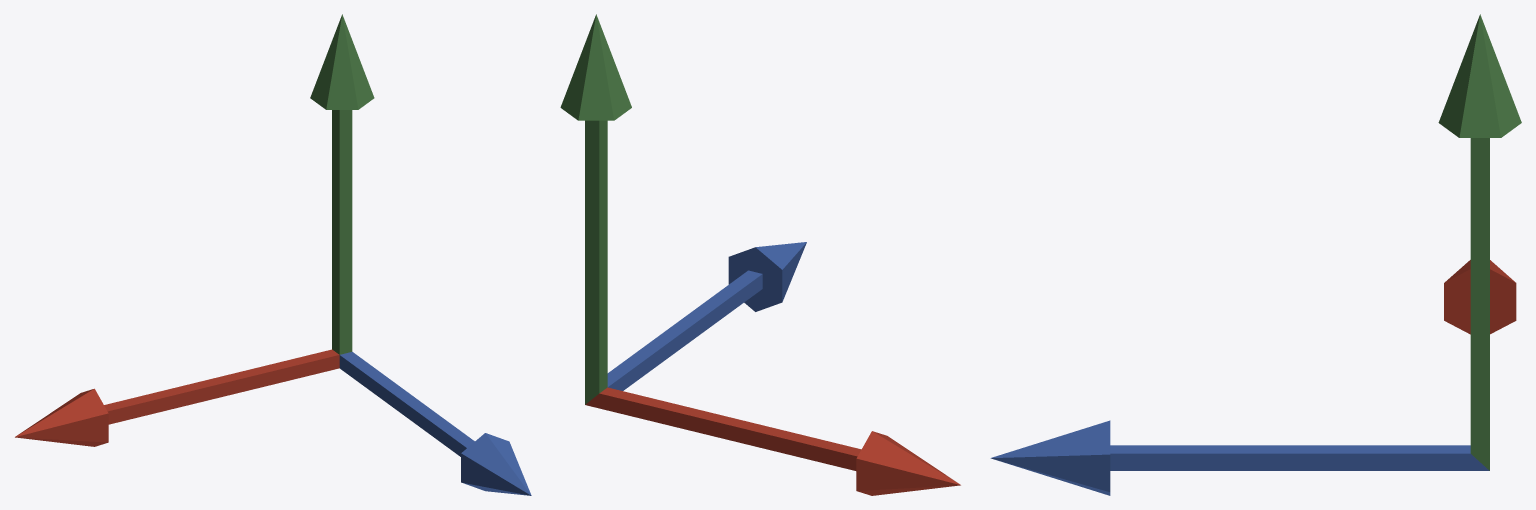
Rendered from SM_Icon_Manip_01.fbx.
3 views of the same model, side by side, from view 1: azimuth 30°, elevation 25°; view 2: azimuth 150°, elevation 25°; view 3: azimuth 270°, elevation 25° (orthographic). The views are drawn at different scales.
Visible parts, largest first — view 1: SM_Icon_Manip_01; view 2: SM_Icon_Manip_01; view 3: SM_Icon_Manip_01.
Boxes of the visible parts, left/top/right/bottom form: SM_Icon_Manip_01: left=15, top=14, right=531, bottom=495; SM_Icon_Manip_01: left=560, top=14, right=960, bottom=495; SM_Icon_Manip_01: left=990, top=14, right=1521, bottom=495.
Bounding box in the file's own units: 142 × 144 × 144.
